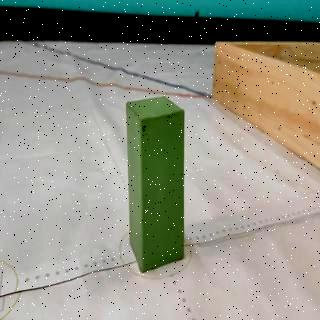greenbox: (124, 95, 186, 272)
